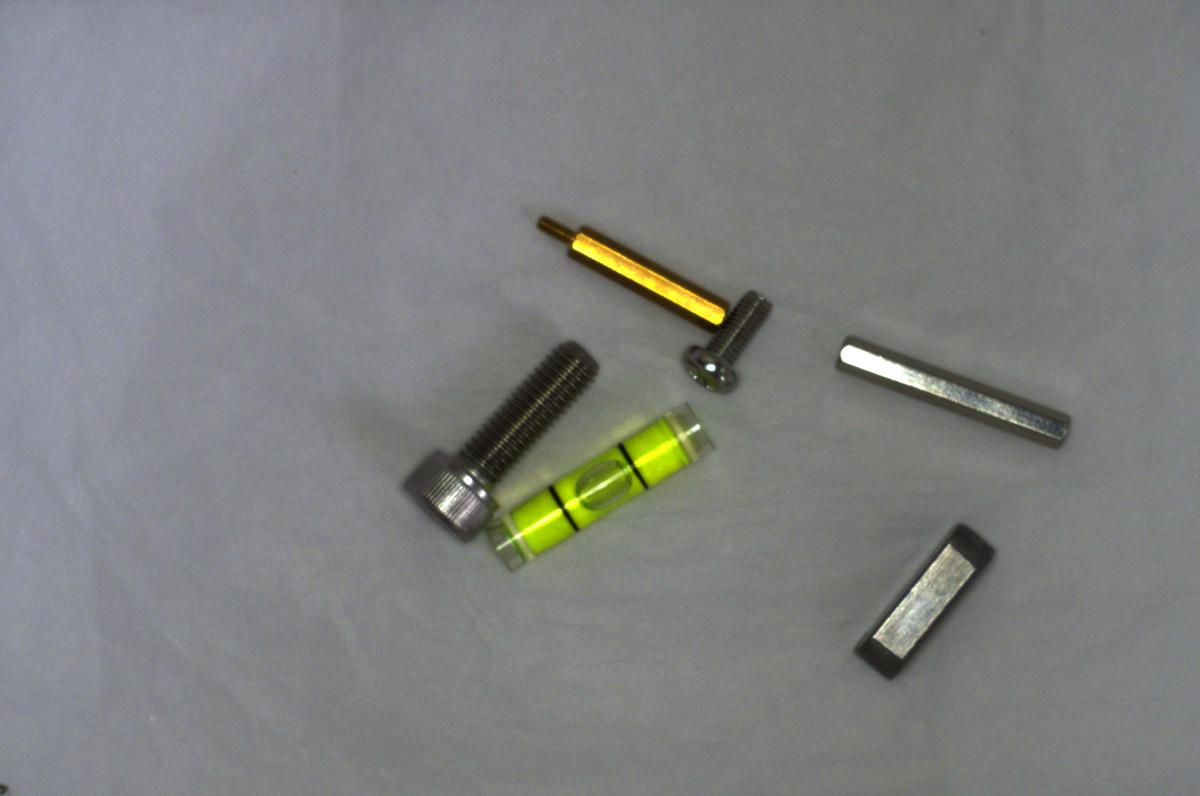Double hexagonal column: (825, 334, 1082, 450)
Hexagon pillar: (530, 209, 727, 322)
Hexagon screw: (382, 335, 598, 543)
Horizontal bubble: (477, 398, 715, 578)
Keybar: (844, 510, 999, 668)
Round head screw: (675, 280, 771, 396)
